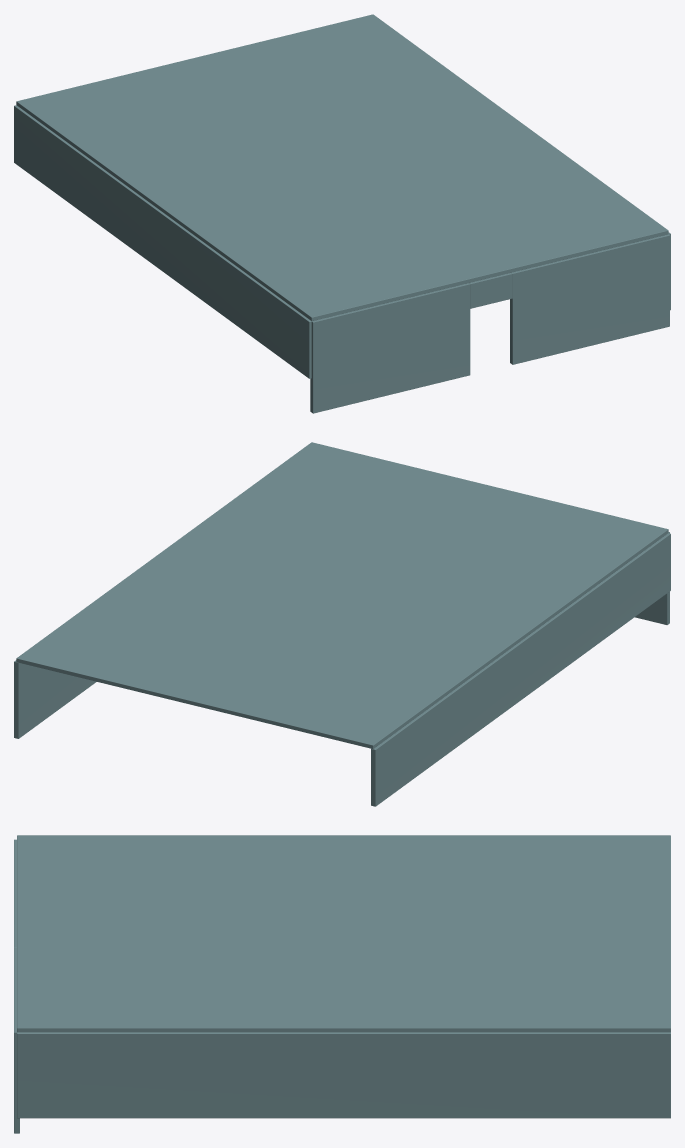
Rendered from dc-south-enclosure.fbx.
3 renders of one model, top to bottom at view 1: azimuth 30°, elevation 25°; view 2: azimuth 150°, elevation 25°; view 3: azimuth 270°, elevation 25°, orthographic. The views are drawn at different scales.
Visible parts, largest first — view 1: Enclosure_Ceiling, Enclosure_Left_Upper, Enclosure_Front_Pier, Enclosure_Front_Pier.001, Enclosure_Door_Lintel; view 2: Enclosure_Ceiling, Enclosure_Left_Upper, Enclosure_Right_Upper, Enclosure_Front_Pier; view 3: Enclosure_Ceiling, Enclosure_Right_Upper, Enclosure_Front_Pier.001.
Part boxes in pixels (x1=…): Enclosure_Ceiling: x1=16, y1=14, x2=668, y2=321; Enclosure_Left_Upper: x1=14, y1=105, x2=311, y2=378; Enclosure_Front_Pier: x1=310, y1=283, x2=470, y2=413; Enclosure_Front_Pier.001: x1=510, y1=234, x2=669, y2=364; Enclosure_Door_Lintel: x1=469, y1=273, x2=512, y2=308; Enclosure_Ceiling: x1=16, y1=442, x2=668, y2=748; Enclosure_Left_Upper: x1=371, y1=533, x2=670, y2=806; Enclosure_Right_Upper: x1=14, y1=660, x2=96, y2=738; Enclosure_Front_Pier: x1=635, y1=532, x2=669, y2=624; Enclosure_Ceiling: x1=17, y1=835, x2=670, y2=1032; Enclosure_Right_Upper: x1=17, y1=1032, x2=670, y2=1118; Enclosure_Front_Pier.001: x1=14, y1=947, x2=19, y2=1133.
Size of what is drawn, in the model's own units: 13.68 by 19.44 by 3.44.
